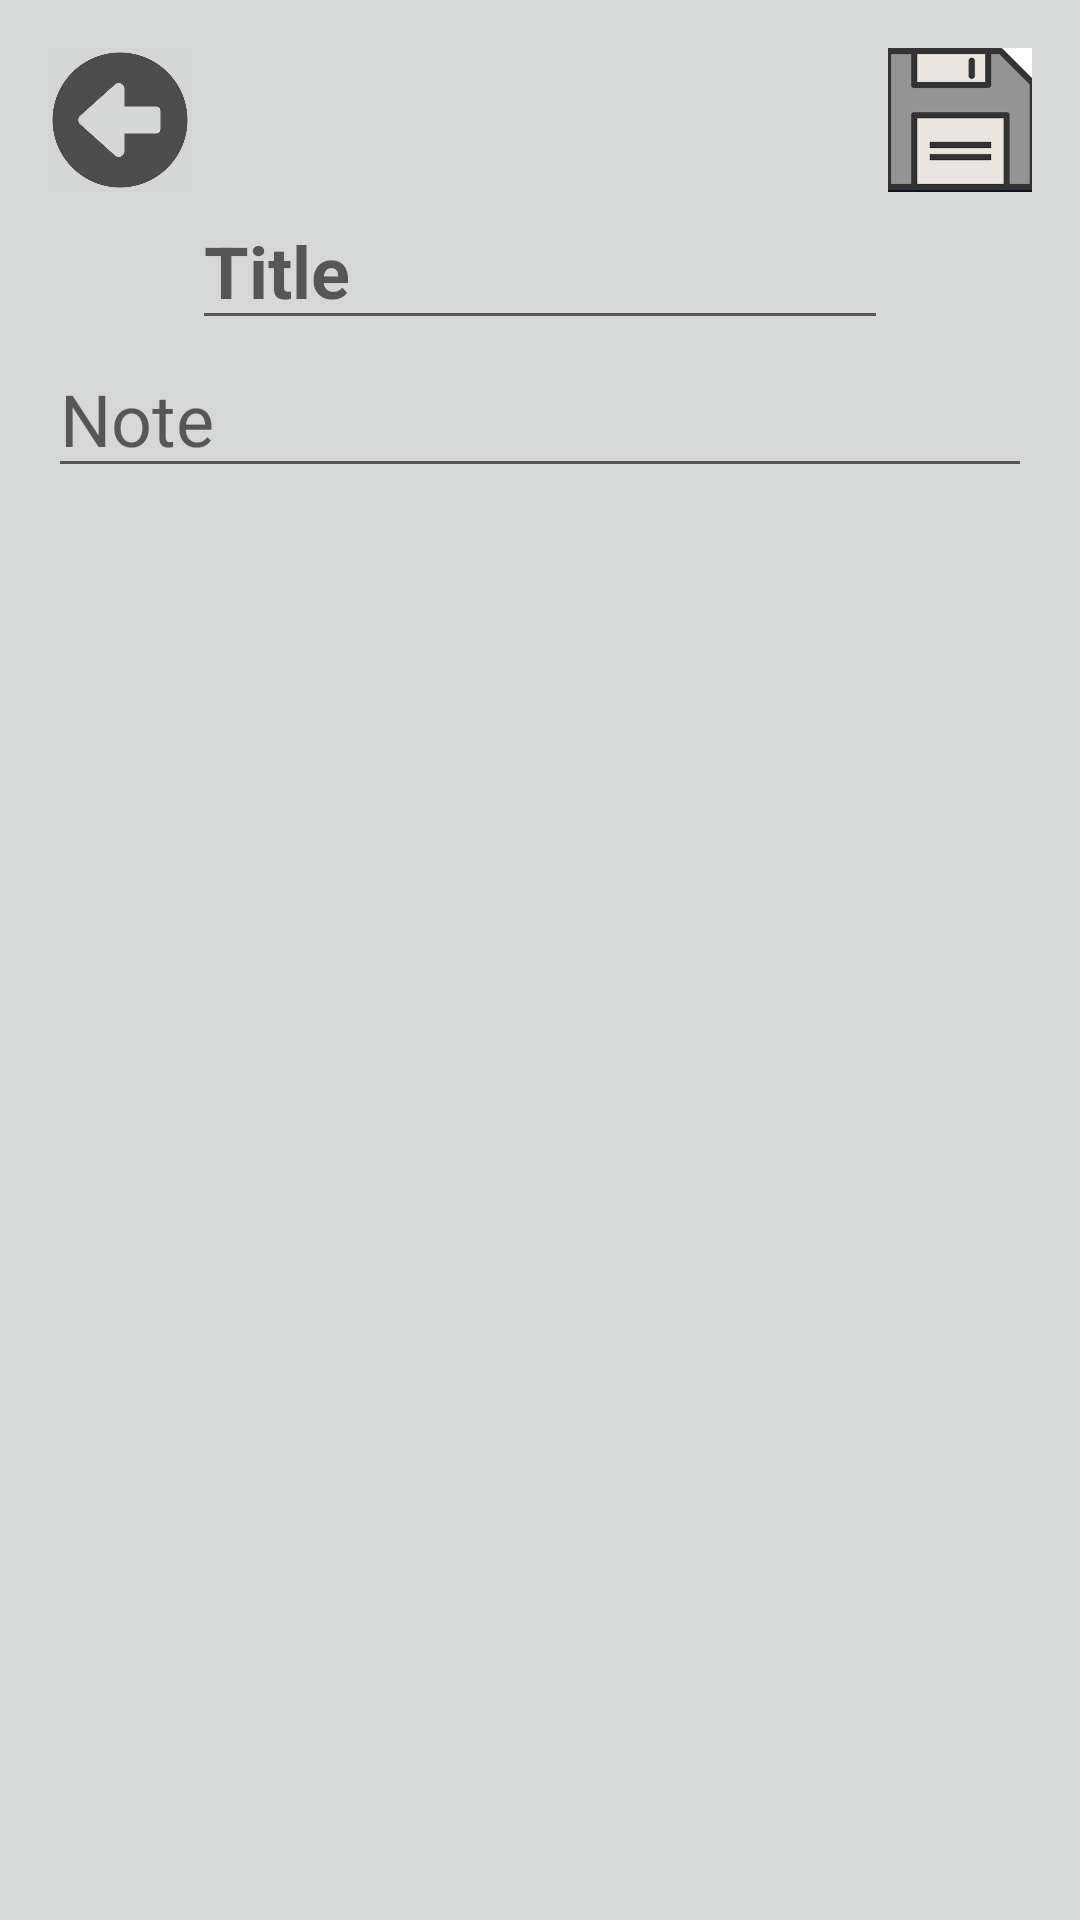

Icon bounding boxes for this 1080w x 1920h phone screenshot, format (x1, y1, x2, y2):
arrowbutton: (52, 52, 188, 188)
savebutton: (888, 48, 1032, 192)
